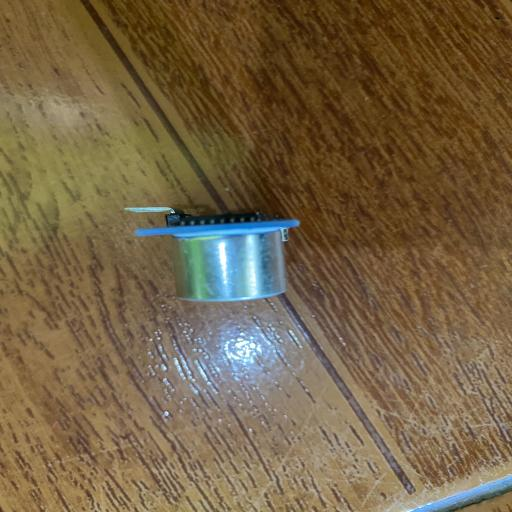Ultrasonic Sensor: (123, 206, 302, 302)
